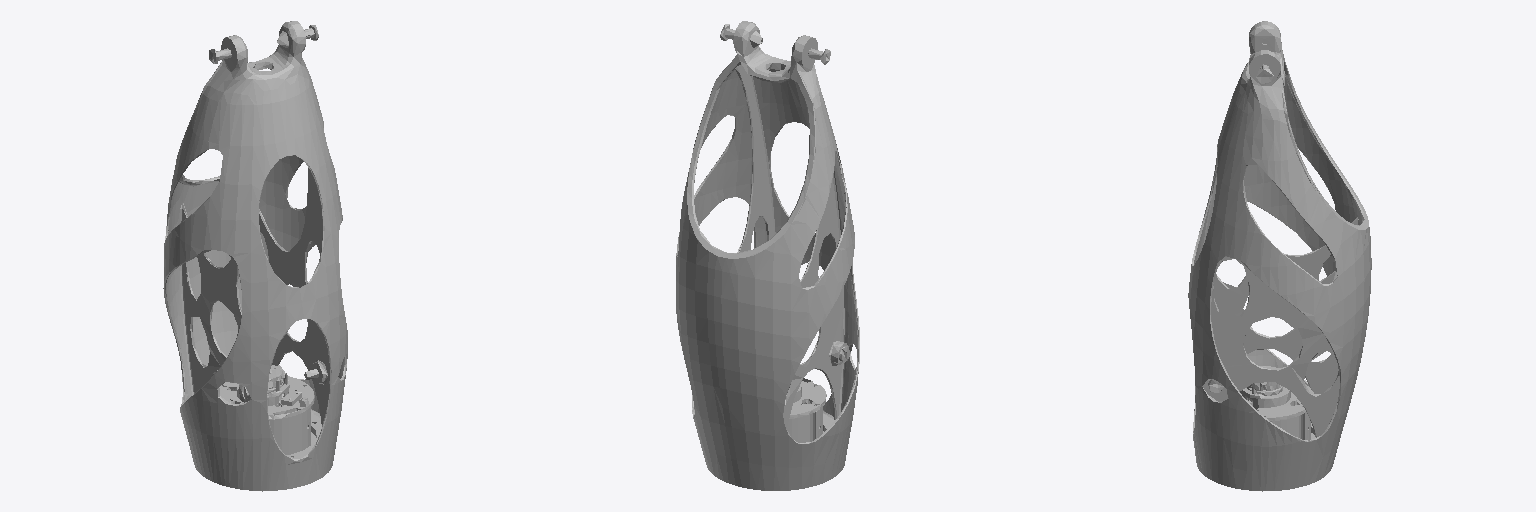
URDF robot description (ALElbow):
<robot name="ALElbow">
  <joint name="ALElbow" type="revolute">
    <origin xyz="0.0 0.001 0.3511" rpy="0.0 0.0 0.0"/>
    <axis xyz="1.0 0.0 0.0"/>
    <parent link="ALShoulder3_Link"/>
    <child link="ALElbow_Link"/>
    <limit effort="400.0" lower="-1.8" upper="0.0" velocity="3.1415926"/>
  </joint>
  <joint name="ALElbowAct" type="prismatic">
    <origin xyz="0.0 0.0 0.29542" rpy="0.0 0.0 0.0"/>
    <axis xyz="0.0 0.0 1.0"/>
    <parent link="ALElbowB11_Link"/>
    <child link="ALElbowAct_Link"/>
    <limit effort="400.0" lower="-1.57" upper="1.57" velocity="3.1415926"/>
  </joint>
  <link name="ALElbowAct_Link">
    <inertial>
      <origin xyz="-6.1594e-06 1.459e-10 -0.085859" rpy="0.0 0.0 0.0"/>
      <mass value="0.054652"/>
      <inertia ixx="0.00010606969013629223" ixy="3.492500000065374e-13" ixz="3.6185000000071752e-09" iyy="0.00010597469013629217" iyz="-4.3476005705310174e-14" izz="1.0000000136292127e-05"/>
    </inertial>
    <visual name="ALElbowAct_Link_Visual">
      <origin xyz="0.0 0.0 0.0" rpy="0.0 0.0 0.0"/>
      <geometry>
        <mesh filename="../meshes/lfs-stl/ALElbow_Act_Link.stl"/>
      </geometry>
      <material name="">
        <color rgba="0.75294 0.75294 0.75294 1.0"/>
      </material>
    </visual>
    <collision name="ALElbowAct_Link_Collision">
      <origin xyz="0.0 0.0 0.0" rpy="0.0 0.0 0.0"/>
      <geometry>
        <mesh filename="../meshes/lfs-stl/ALElbow_Act_Link_convexhull.stl" scale="1.0 1.0 1.0"/>
      </geometry>
    </collision>
  </link>
  <joint name="ALElbowB11" type="revolute">
    <origin xyz="0.0 -0.029 0.1391" rpy="-0.25319 0.0 0.0"/>
    <axis xyz="1.0 0.0 0.0"/>
    <parent link="ALShoulder3_Link"/>
    <child link="ALElbowB11_Link"/>
    <limit effort="400.0" lower="-1.57" upper="1.57" velocity="3.1415926"/>
  </joint>
  <link name="ALElbowB11_Link">
    <inertial>
      <origin xyz="2.5944e-05 1.8924e-05 0.10704" rpy="0.0 0.0 0.0"/>
      <mass value="0.32696"/>
      <inertia ixx="0.00011102" ixy="-1.0985e-08" ixz="-6.6288e-08" iyy="0.00011251" iyz="1.4067e-07" izz="7.0733e-05"/>
    </inertial>
    <visual name="ALElbowB11_Link_Visual">
      <origin xyz="0.0 0.0 0.0" rpy="0.0 0.0 0.0"/>
      <geometry>
        <mesh filename="../meshes/lfs-stl/ALElbow_B11_Link.stl"/>
      </geometry>
      <material name="">
        <color rgba="0.75294 0.75294 0.75294 1.0"/>
      </material>
    </visual>
    <collision name="ALElbowB11_Link_Collision">
      <origin xyz="0.0 0.0 0.0" rpy="0.0 0.0 0.0"/>
      <geometry>
        <mesh filename="../meshes/lfs-stl/ALElbow_B11_Link_convexhull.stl" scale="1.0 1.0 1.0"/>
      </geometry>
    </collision>
  </link>
  <link name="ALElbow_Link">
    <inertial>
      <origin xyz="-7.016e-05 0.001127 0.080286" rpy="0.0 0.0 0.0"/>
      <mass value="0.63578"/>
      <inertia ixx="0.00050999" ixy="2.2297e-07" ixz="4.047e-07" iyy="0.00051633" iyz="-4.4233e-05" izz="0.00046537"/>
    </inertial>
    <visual name="ALElbow_Link_Visual">
      <origin xyz="0.0 0.0 0.0" rpy="0.0 0.0 0.0"/>
      <geometry>
        <mesh filename="../meshes/lfs-stl/ALElbow_Link.stl"/>
      </geometry>
      <material name="">
        <color rgba="0.75294 0.75294 0.75294 1.0"/>
      </material>
    </visual>
    <collision name="ALElbow_Link_Collision">
      <origin xyz="0.0 0.0 0.0" rpy="0.0 0.0 0.0"/>
      <geometry>
        <mesh filename="../meshes/lfs-stl/ALElbow_Link_convexhull.stl" scale="1.0 1.0 1.0"/>
      </geometry>
    </collision>
  </link>
  <link name="ALShoulder3_Link">
    <inertial>
      <origin xyz="-3.2703e-05 0.0033688 0.14648" rpy="0.0 0.0 0.0"/>
      <mass value="0.85234"/>
      <inertia ixx="0.0028013" ixy="5.1939e-07" ixz="-7.2591e-07" iyy="0.0027401" iyz="5.4672e-05" izz="0.00078629"/>
    </inertial>
    <visual name="ALShoulder3_Link_Visual">
      <origin xyz="0.0 0.0 0.0" rpy="0.0 0.0 0.0"/>
      <geometry>
        <mesh filename="../meshes/lfs-stl/ALShoulder3_Link.stl"/>
      </geometry>
      <material name="">
        <color rgba="0.75294 0.75294 0.75294 1.0"/>
      </material>
    </visual>
    <collision name="ALShoulder3_Link_Collision">
      <origin xyz="0.0 0.0 0.0" rpy="0.0 0.0 0.0"/>
      <geometry>
        <mesh filename="../meshes/lfs-stl/ALShoulder3_Link_convexhull.stl" scale="1.0 1.0 1.0"/>
      </geometry>
    </collision>
  </link>
</robot>

--- Facts derived from the render (not from the file) ---
Views: 3 orthographic renders of the robot side by side, from view 1: azimuth 30°, elevation 25°; view 2: azimuth 150°, elevation 25°; view 3: azimuth 270°, elevation 25°.
Robot: ALElbow — 4 links, 3 joints (2 revolute, 1 prismatic); root link ALShoulder3_Link; default pose: every joint at zero.
Visible links, largest first — view 1: ALShoulder3_Link; view 2: ALShoulder3_Link; view 3: ALShoulder3_Link.
Link boxes in pixels (x1=…): ALShoulder3_Link: x1=163, y1=21, x2=347, y2=491; ALShoulder3_Link: x1=676, y1=21, x2=859, y2=490; ALShoulder3_Link: x1=1188, y1=21, x2=1371, y2=491.
Bounding box of the posed robot: 0.1115 × 0.1129 × 0.3003 m (x, y, z).
Meshes: 4 distinct files referenced, 1 mesh visuals loaded (1 binary STL); not drawn: 3 (reference not matched to a file when rendering).